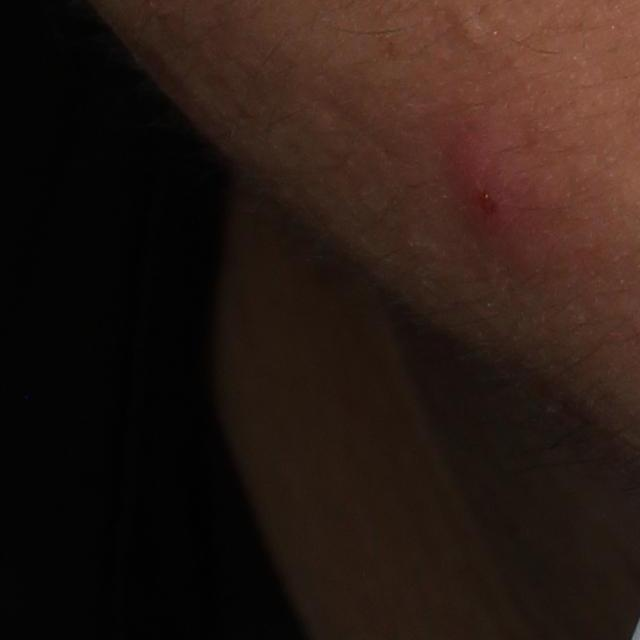comedo: (450, 1, 493, 51)
